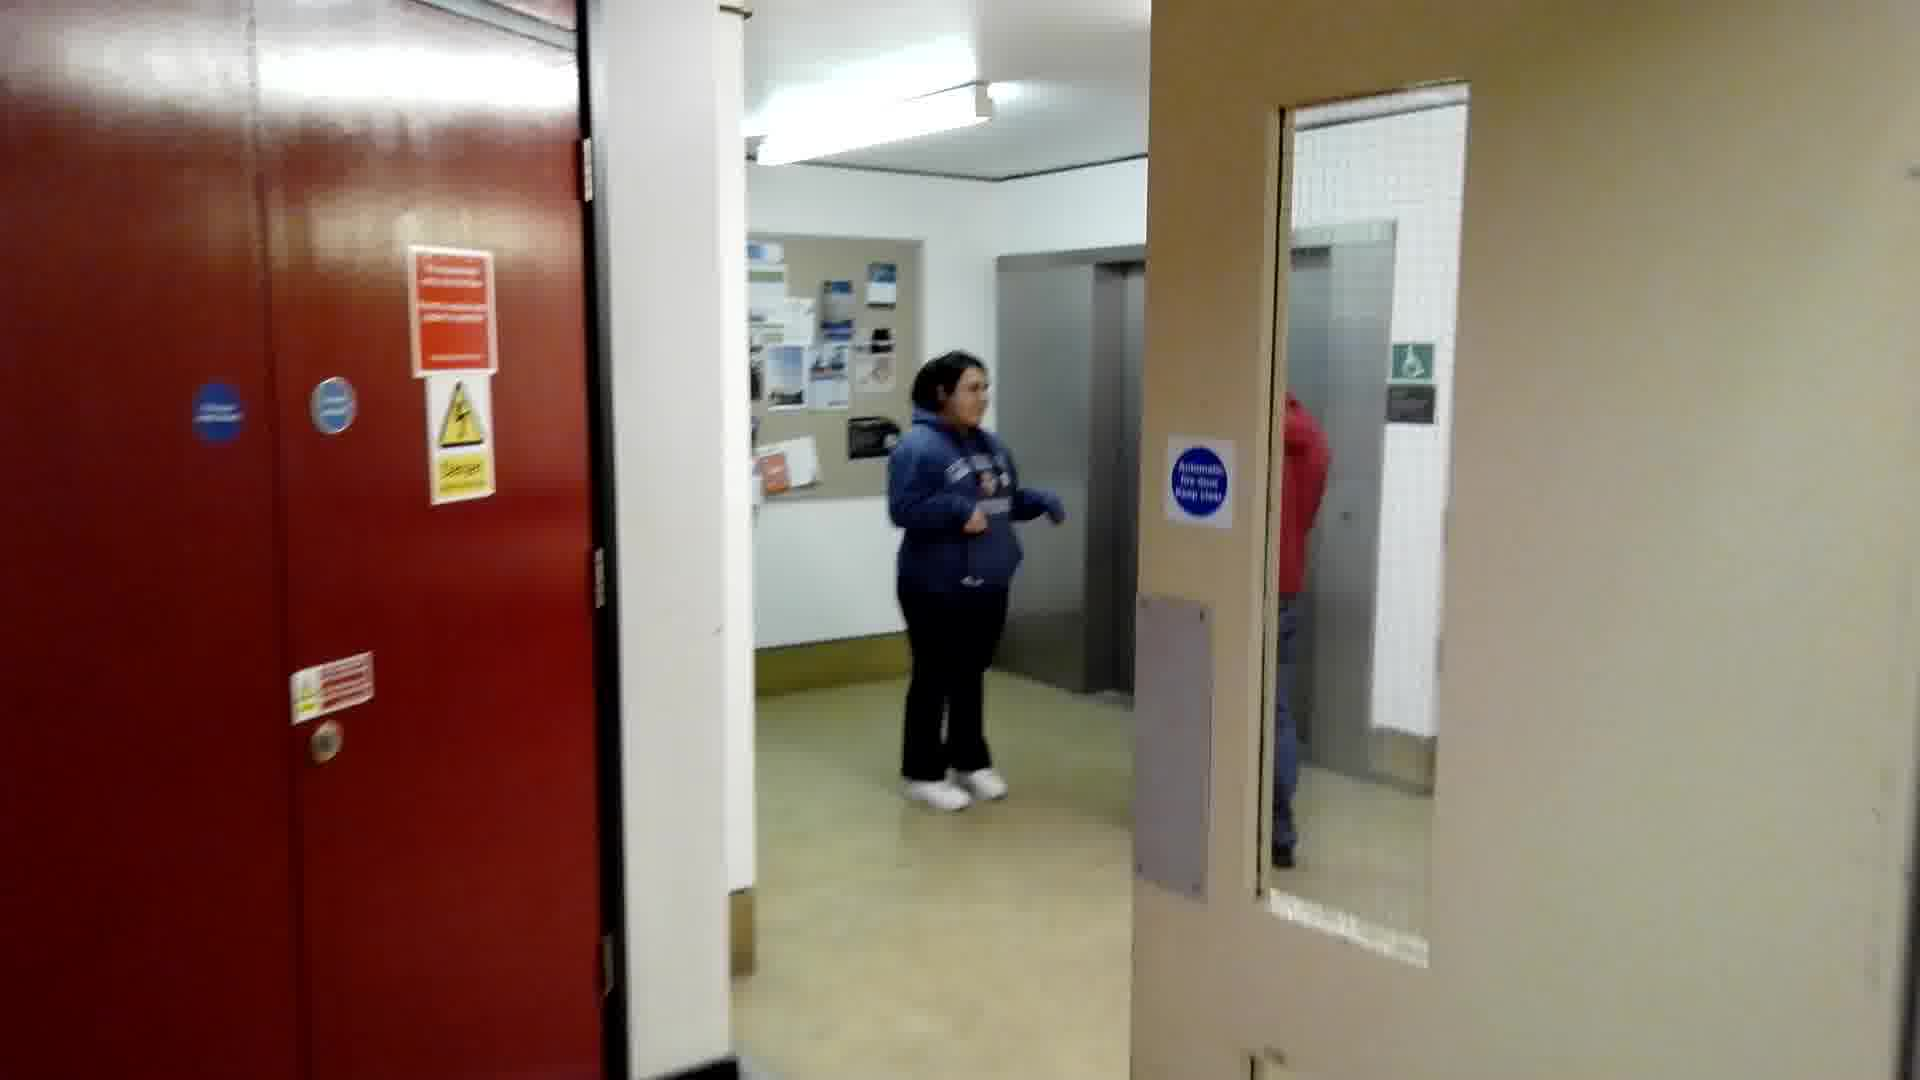Door: (1142, 2, 1920, 1080)
Person: (874, 346, 1069, 825)
